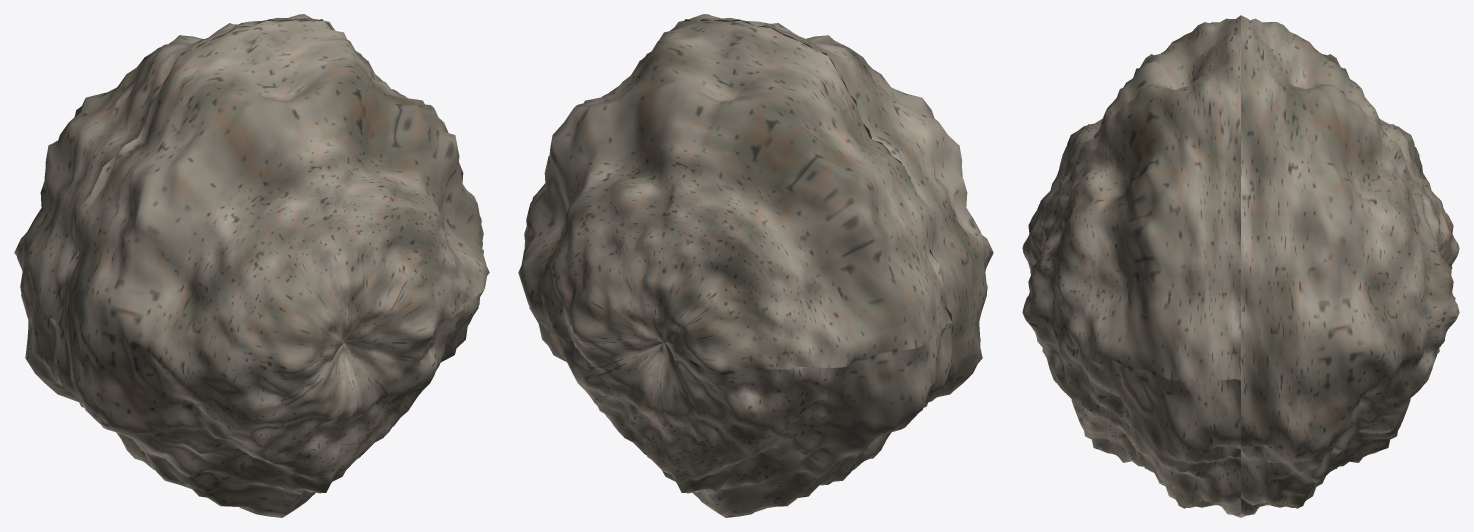
The model's file is banded-agate-study-v1.glb.
3 renders of one model, left to right at view 1: azimuth 30°, elevation 25°; view 2: azimuth 150°, elevation 25°; view 3: azimuth 270°, elevation 25°, orthographic.
Parts seen in each view (by area): view 1: Closed_front, Closed_back; view 2: Closed_back, Closed_front; view 3: Closed_front, Closed_back.
Part boxes in pixels (bbox=[...]): Closed_front: bbox=[55, 20, 489, 517]; Closed_back: bbox=[14, 14, 383, 469]; Closed_back: bbox=[518, 20, 952, 517]; Closed_front: bbox=[613, 14, 993, 469]; Closed_front: bbox=[1022, 15, 1240, 517]; Closed_back: bbox=[1241, 15, 1459, 517].
Bounding box in the file's own units: 3.02 × 3.48 × 2.86.
8 materials, 3 textured.
